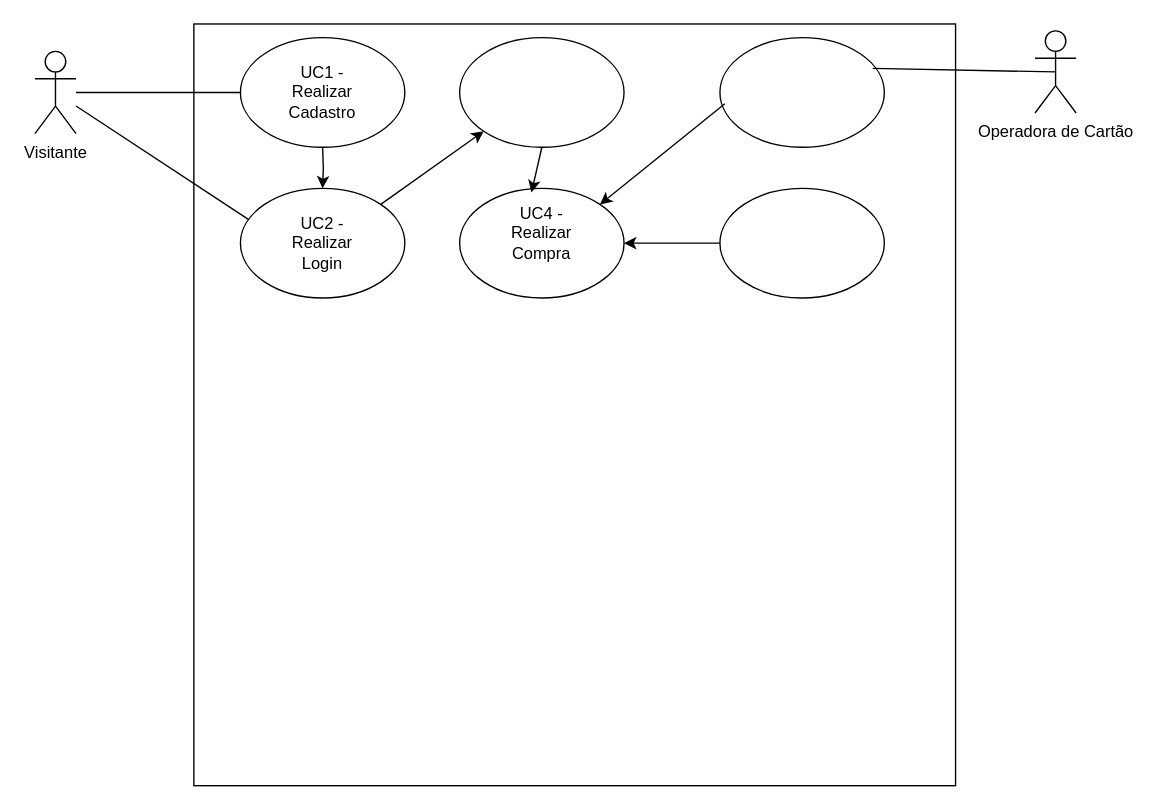
Some shapes in this 1156 by 810 pixel diagram are drawn without their labels. Each missing label, with the box of its shape:
UC3 - Pesquisar Produto: (458, 36, 624, 147)
UC5 - Pagar com boleto: (719, 187, 884, 298)
UC6 - Pagar com Cartã De Crédito: (719, 36, 884, 147)
